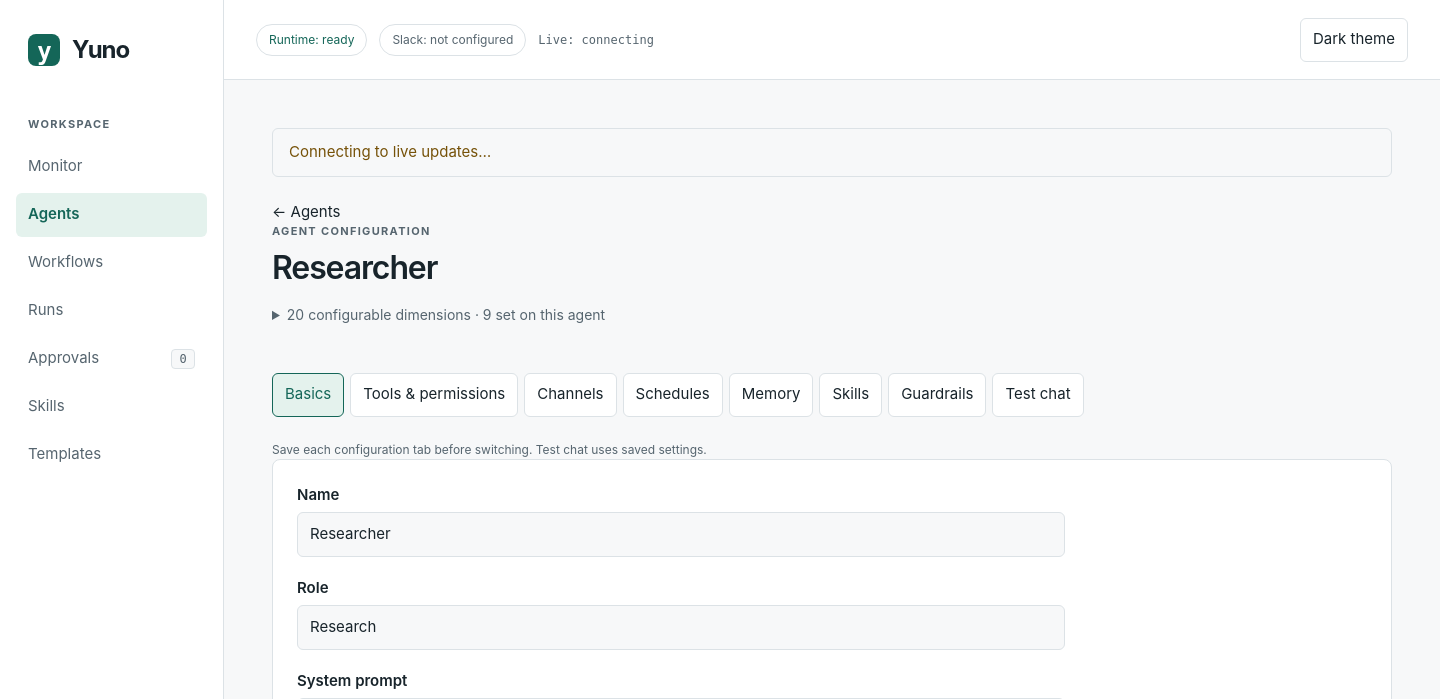
Test case: T16 agent editor (R-01, R-02, R-03, R-04, R-05, R-20) › R-20 shows the channel binding and Slack status on both agent cards and editor
The image size is (1440, 699).
Expected: the field labelled "Name" is shown, [297,512,1065,556]
Click the tab "Channels" at [570, 394], box [524,372,617,416]
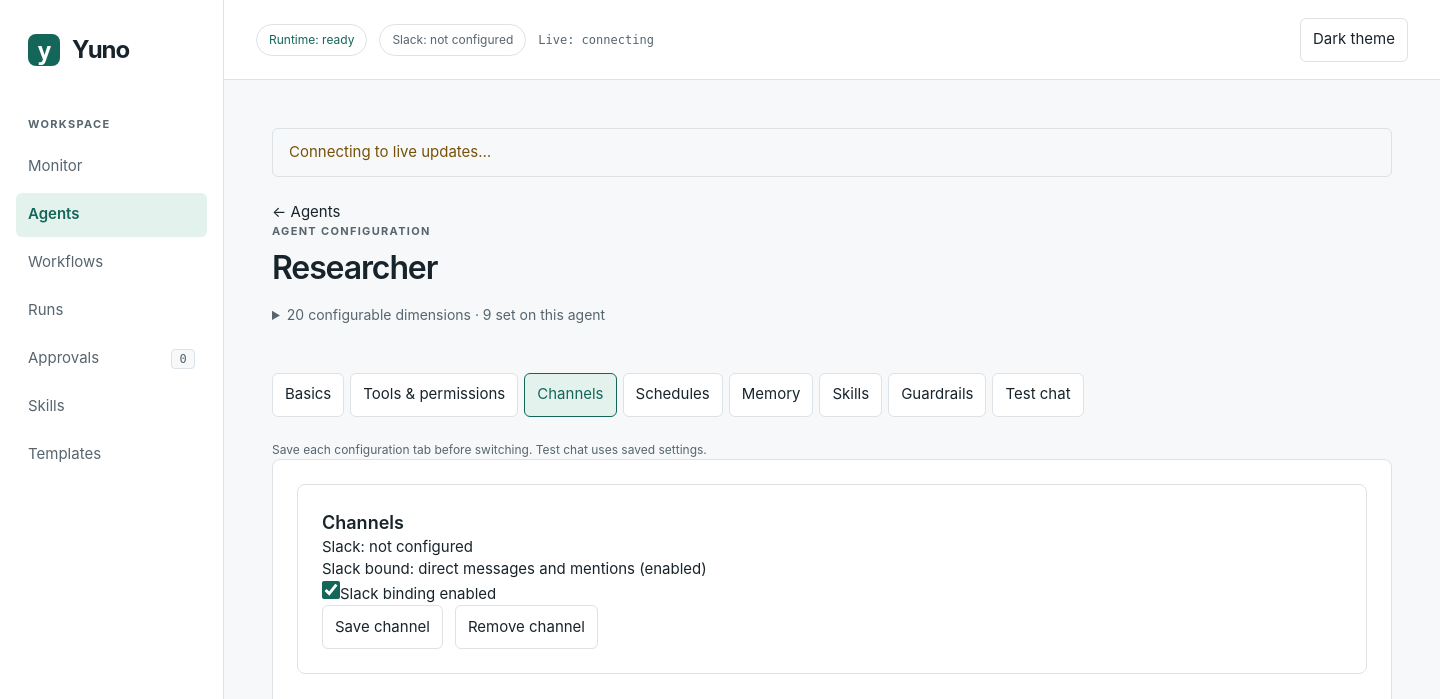
Expected: the text "Slack: not configured" next to "Live:" is shown, [379,24,526,56]
Now the checkbox labelled "Slack binding enabled" is checked, box [322,580,340,598]
